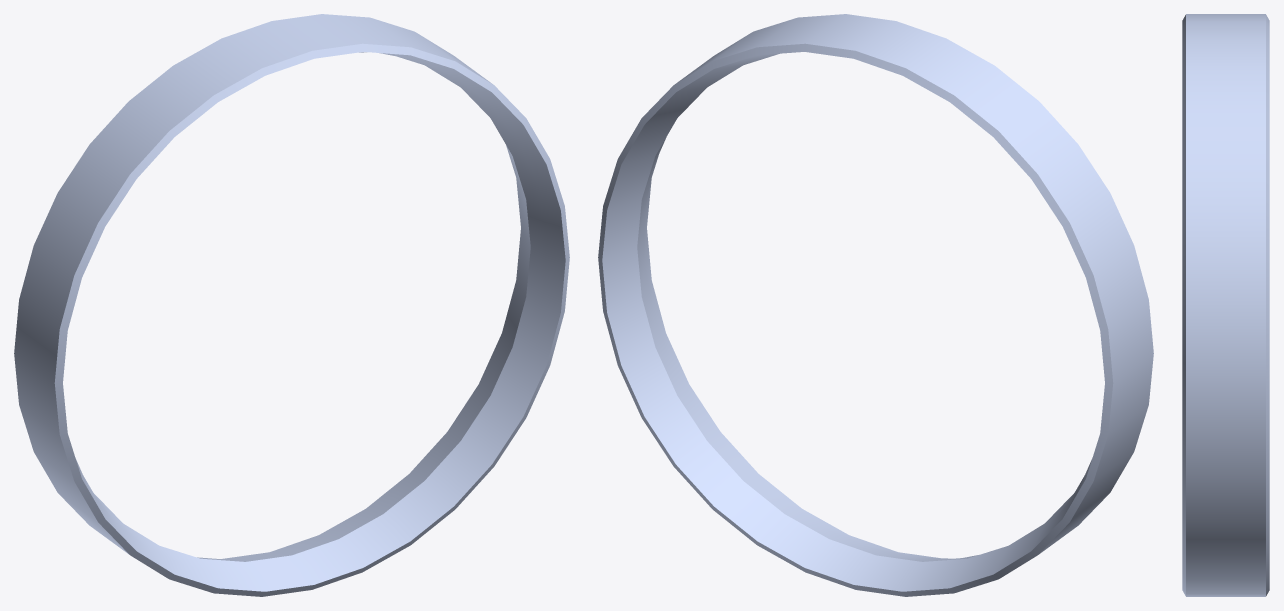
The model's file is ring.glb.
3 views of the same model, side by side, from view 1: azimuth 30°, elevation 25°; view 2: azimuth 150°, elevation 25°; view 3: azimuth 270°, elevation 25° (orthographic).
Parts seen in each view (by area): view 1: Ring 3; view 2: Ring 3; view 3: Ring 3.
Part boxes in pixels (x1,y1,x2,y2): Ring 3: (14,14,569,596); Ring 3: (598,14,1153,596); Ring 3: (1182,14,1269,596).
Size of what is drawn, in the model's own units: 1.08 by 1.08 by 0.1623.
